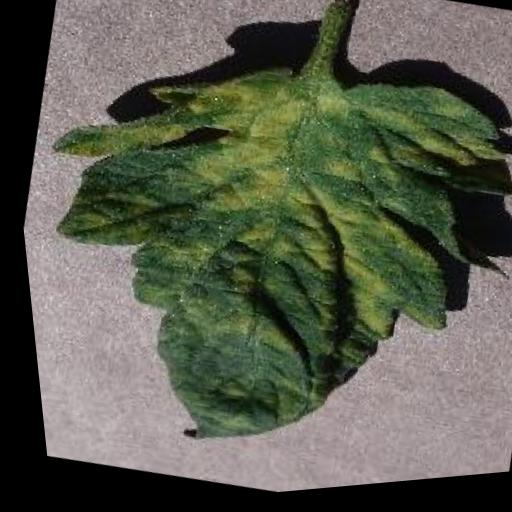Leaf Mold: (3, 0, 512, 512)
